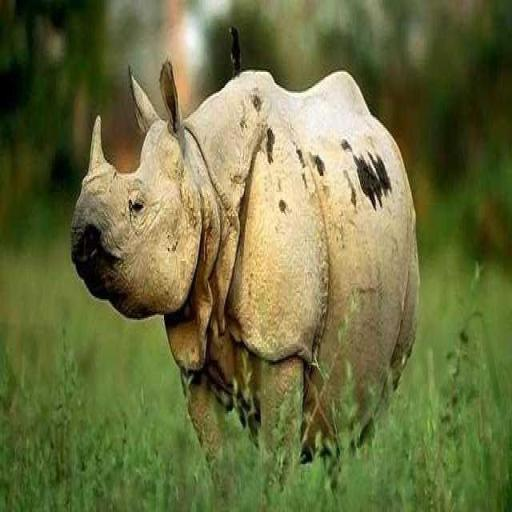Rhino: (70, 30, 420, 504)
